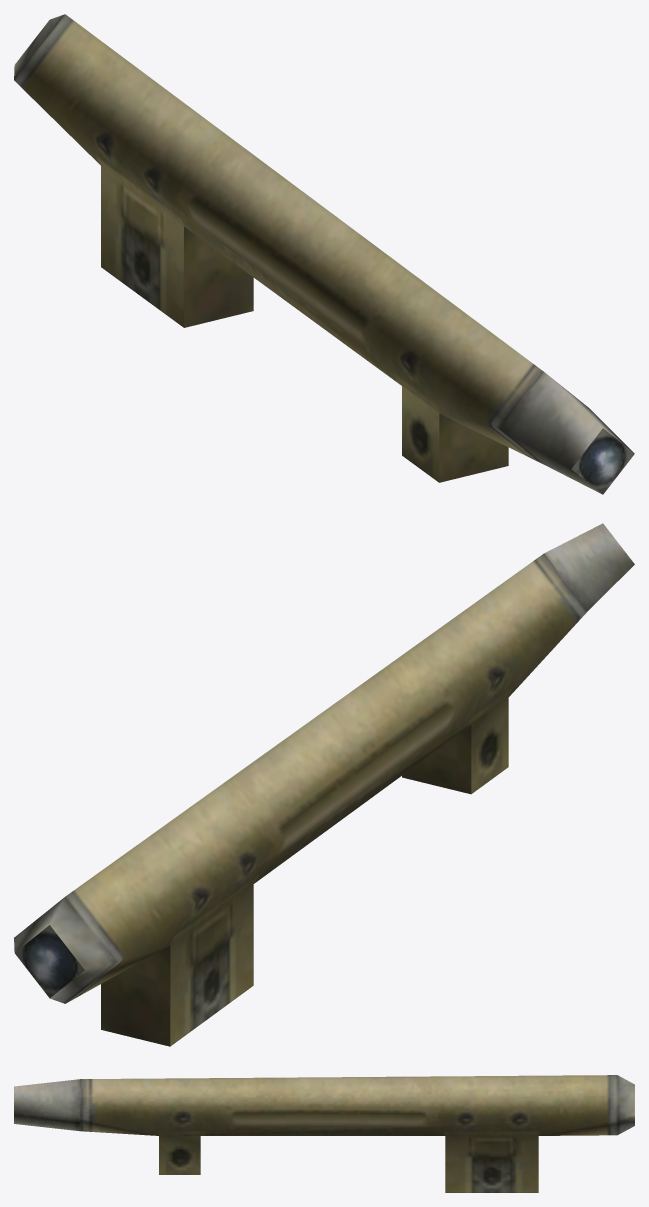
File: wp_scope_ld1_l1.fbx
3 views of the same model, one above another, from view 1: azimuth 30°, elevation 25°; view 2: azimuth 150°, elevation 25°; view 3: azimuth 270°, elevation 25° (orthographic). The views are drawn at different scales.
Parts seen in each view (by area): view 1: mesh_node; view 2: mesh_node; view 3: mesh_node.
Boxes of the visible parts, x1,y1,x2,y2 form: mesh_node: [14, 14, 634, 494]; mesh_node: [14, 523, 634, 1046]; mesh_node: [14, 1075, 634, 1192].
Bounding box in the file's own units: 0.034 × 0.0611 × 0.3174.
Materials: 1 (1 with a texture image).
